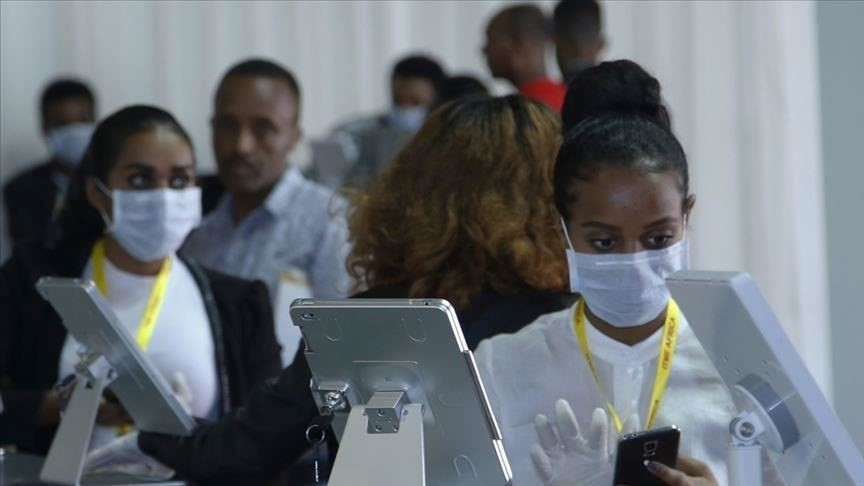face_no_mask: (210, 56, 303, 198), (480, 2, 547, 82)
face_with_mask: (554, 116, 695, 329), (84, 105, 207, 263), (38, 75, 93, 167), (384, 53, 447, 132)
